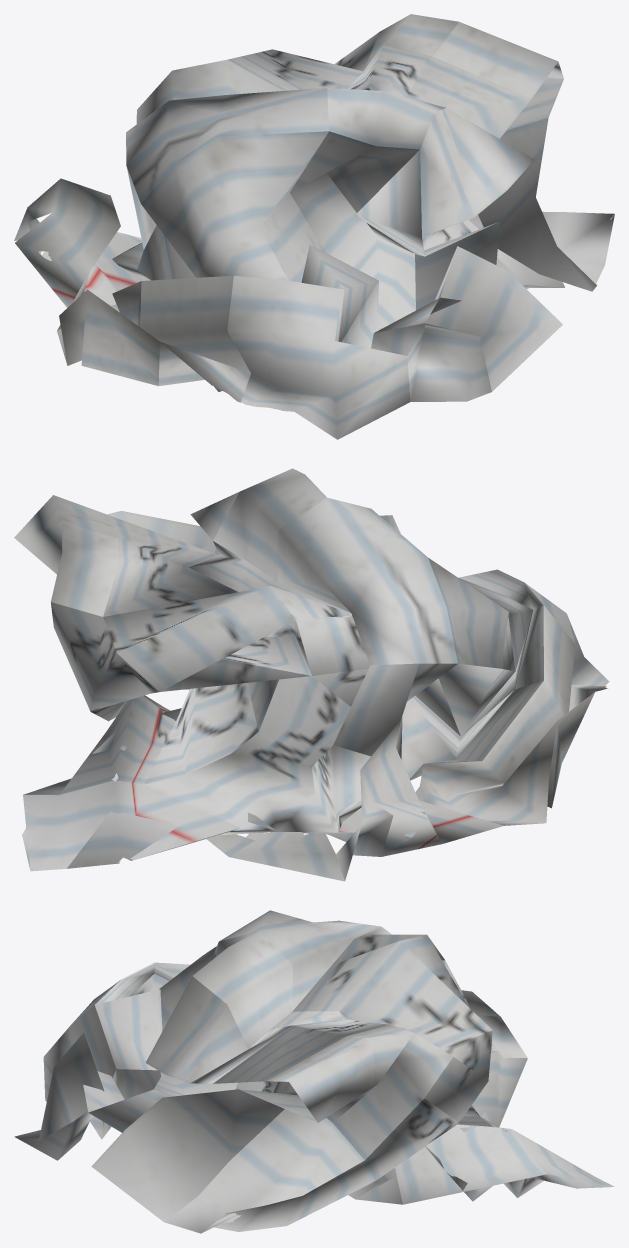
File: SM_PaperBall_02.fbx
3 views of the same model, one above another, from view 1: azimuth 30°, elevation 25°; view 2: azimuth 150°, elevation 25°; view 3: azimuth 270°, elevation 25° (orthographic). The views are drawn at different scales.
Visible parts, largest first — view 1: SM_PaperBall_02_LOD0; view 2: SM_PaperBall_02_LOD0; view 3: SM_PaperBall_02_LOD0.
Boxes of the visible parts, bbox=[...] form: SM_PaperBall_02_LOD0: bbox=[14, 14, 614, 439]; SM_PaperBall_02_LOD0: bbox=[14, 468, 609, 881]; SM_PaperBall_02_LOD0: bbox=[14, 910, 614, 1233].
Size of the model in its own units: 19.16 by 21.48 by 8.67.
Materials: 1 (1 with a texture image).
